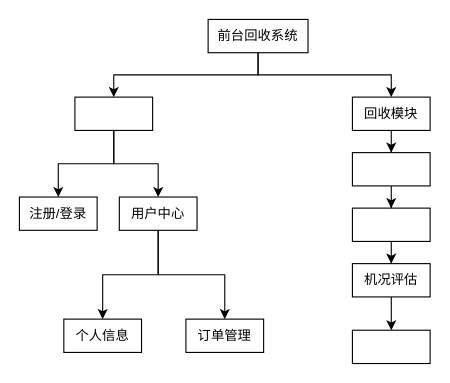
Image size: 450x383. Some labels were removed from this diagram. The shapes that lost their labels are listed below. From the top down, each one's centre as x and y in pixels, then its label:
At (x=113, y=113): "用户模块".
At (x=390, y=169): "品牌选择".
At (x=390, y=224): "机型选择".
At (x=390, y=346): "订单确认".
